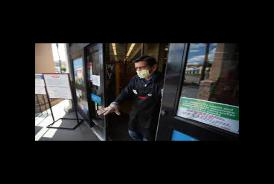with_mask: (135, 64, 151, 80)
